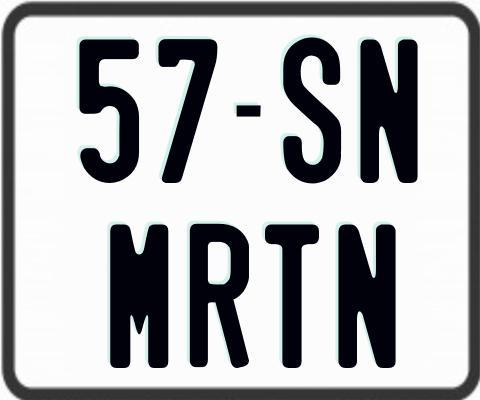5: (78, 36, 143, 186)
7: (155, 38, 215, 183)
M: (110, 223, 173, 372)
N: (359, 39, 421, 184), (338, 221, 396, 369)
R: (189, 224, 253, 368)
S: (281, 36, 342, 184)
T: (263, 224, 318, 374)
